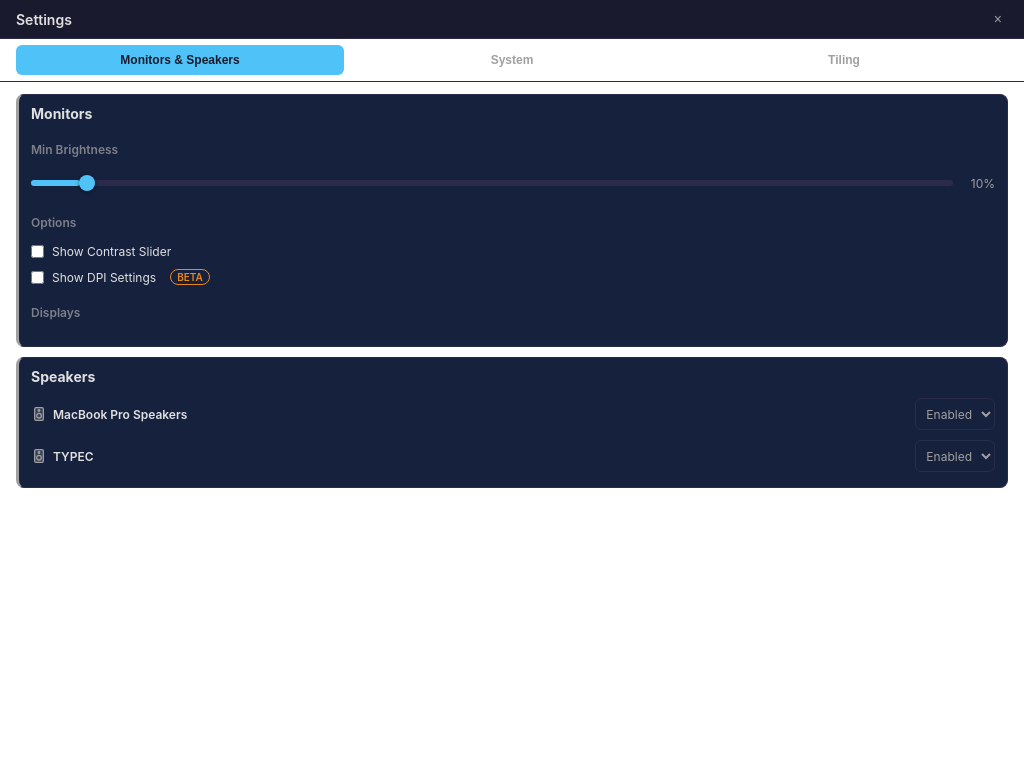
Scenario: SettingsPanel › enables Night Mode Schedule and reveals night/day sections
Click the button "System".
click(512, 60)  # box [348,45,676,75]
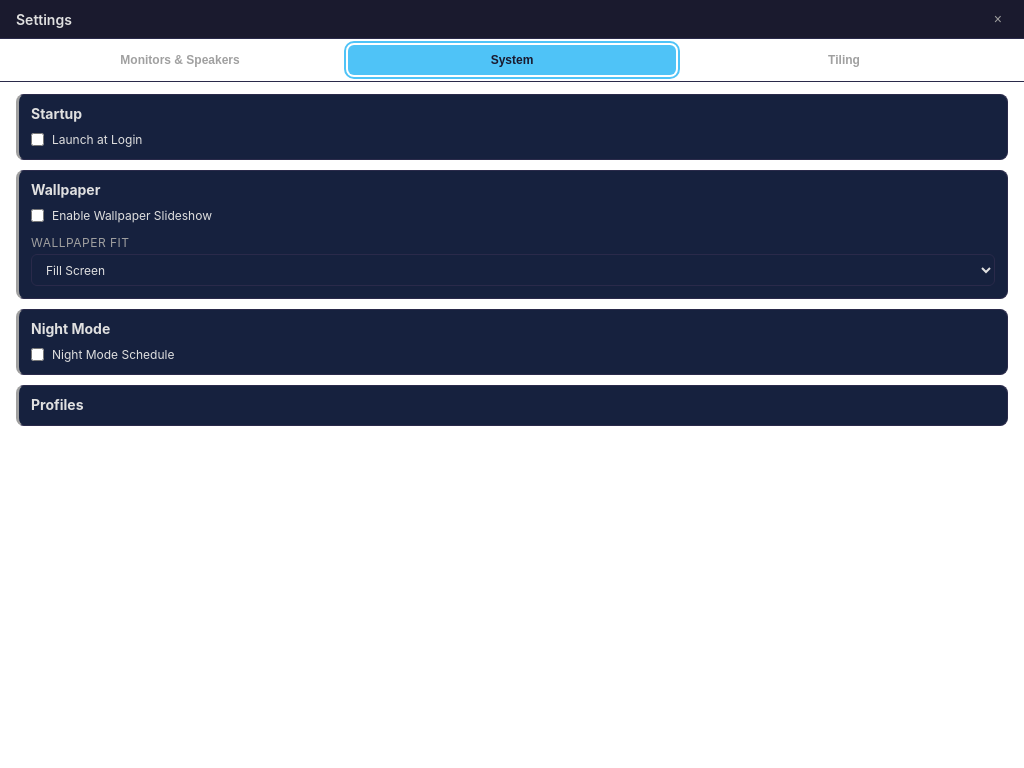
Click the checkbox labelled "Night Mode Schedule".
click(38, 354)  # box [31,348,44,361]
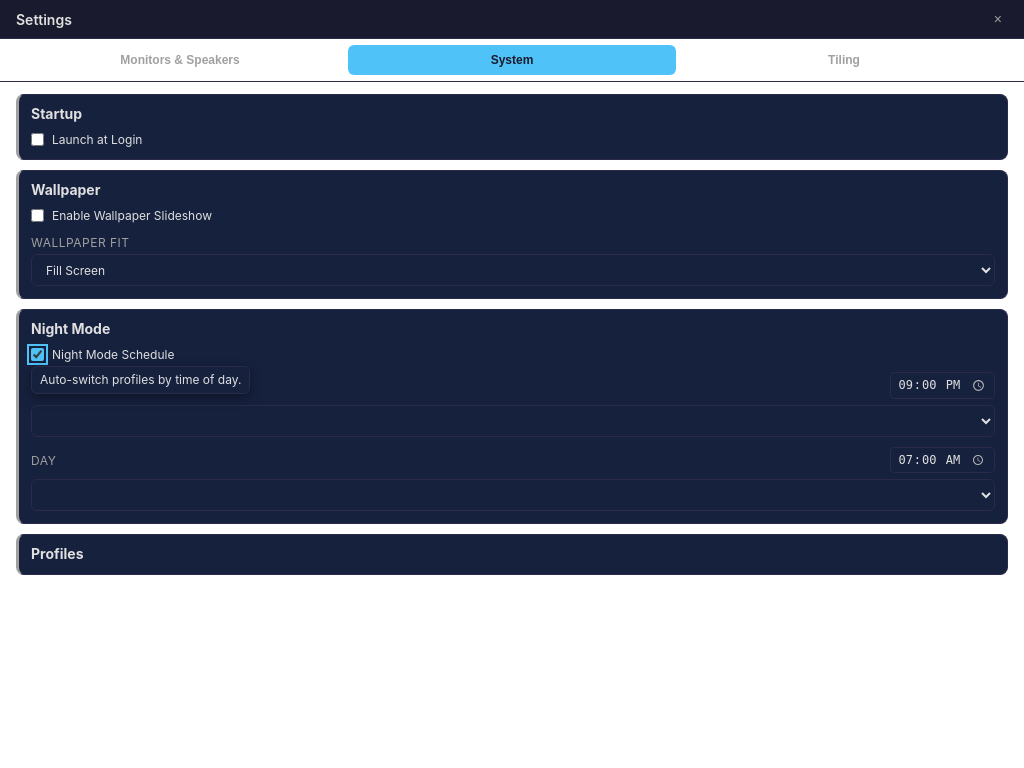
Expected: the text "Night" is shown, [31,379,71,394]
Expected: the text "Day" is shown, [31,453,56,468]
